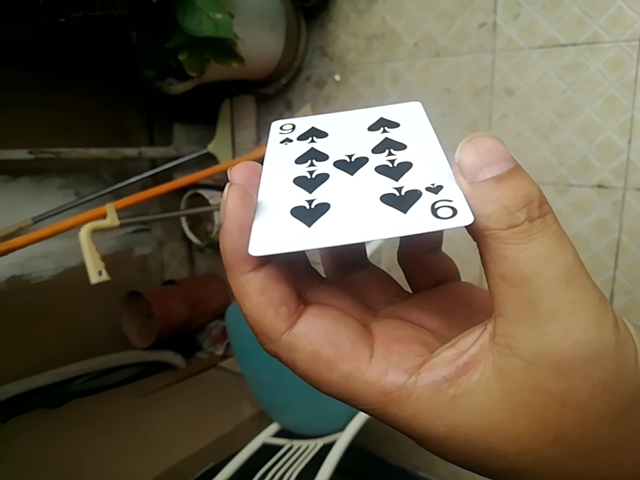ht 9: (253, 102, 467, 261)
